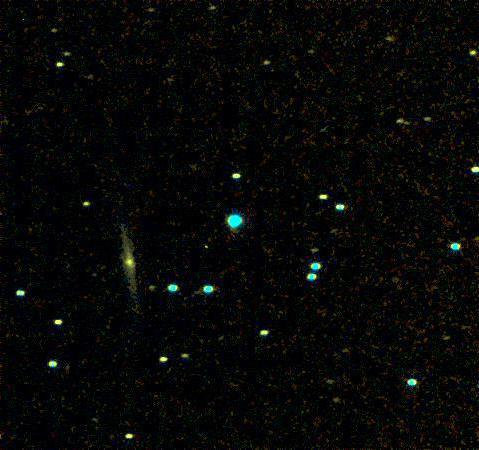star: (345, 85, 375, 115)
